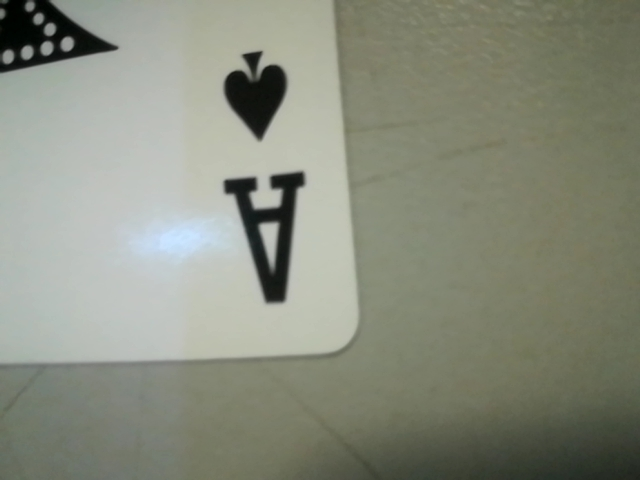ht a: (193, 32, 340, 325)
